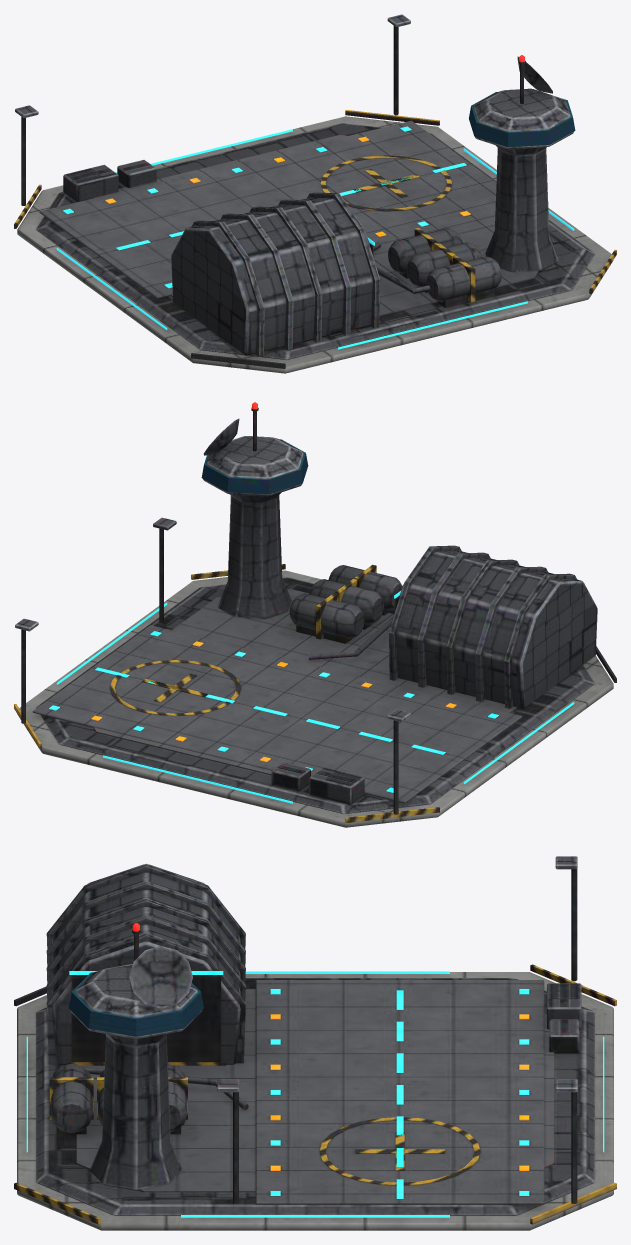
File: terran_air_base.glb
3 views of the same model, one above another, from view 1: azimuth 30°, elevation 25°; view 2: azimuth 150°, elevation 25°; view 3: azimuth 270°, elevation 25° (orthographic). The views are drawn at different scales.
Parts seen in each view (by area): view 1: Base, Hangar, Tower, Fuel; view 2: Base, Hangar, Tower, Fuel; view 3: Base, Hangar, Tower, Fuel, TowerDish.
Boxes of the visible parts, box(x1,y1,x2,y2) form: Base: box(14, 14, 616, 373); Hangar: box(171, 192, 379, 356); Tower: box(469, 55, 575, 272); Fuel: box(373, 228, 501, 307); Base: box(14, 517, 616, 827); Hangar: box(389, 545, 597, 708); Tower: box(201, 402, 308, 619); Fuel: box(289, 564, 402, 659); Base: box(14, 856, 616, 1230); Hangar: box(46, 863, 245, 1065); Tower: box(69, 923, 203, 1190); Fuel: box(49, 1063, 248, 1135); TowerDish: box(129, 946, 192, 1008).
Size of the model in its own units: 12.12 by 5.8 by 12.12.
1 material, 1 textured.
